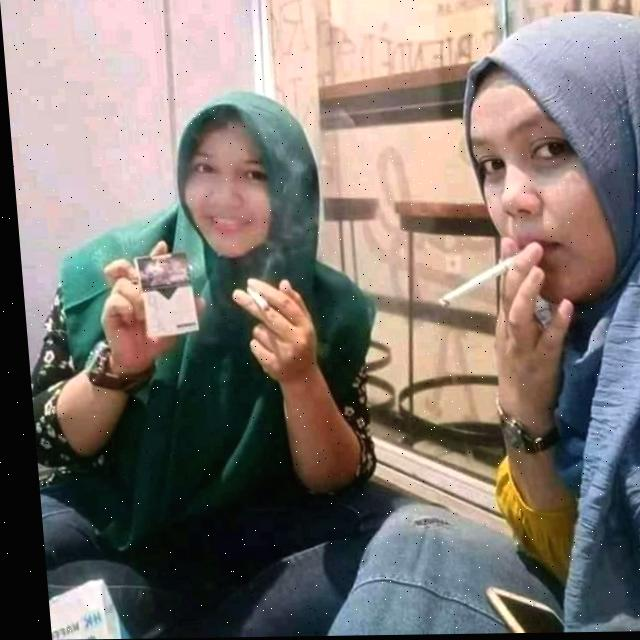cigarette: (429, 256, 520, 310), (242, 288, 265, 313)
